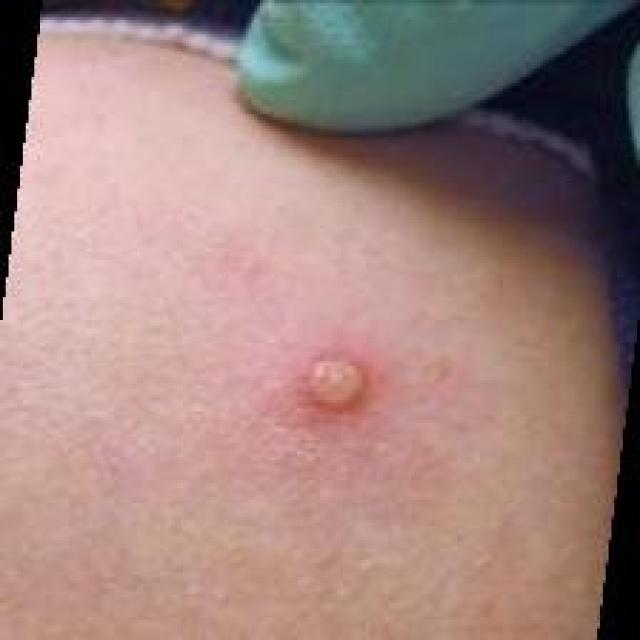monkeypox: (206, 276, 532, 592)
